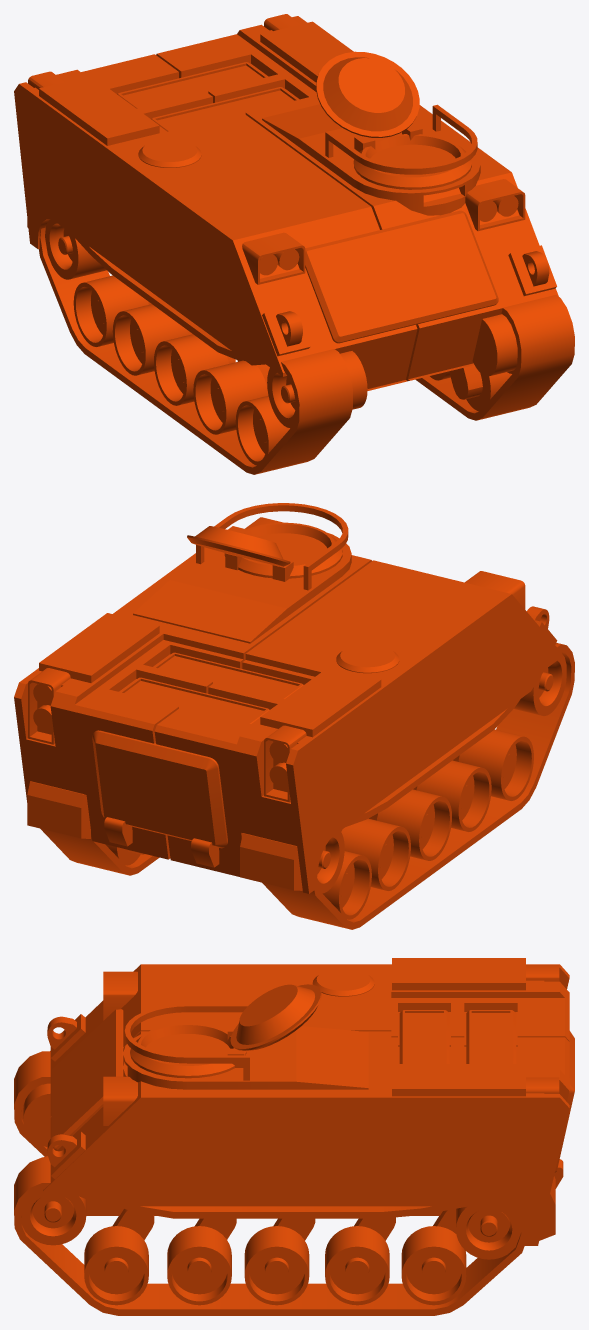
The model's file is wb-apc.fbx.
The picture shows the model from 3 angles, top to bottom: view 1: azimuth 30°, elevation 25°; view 2: azimuth 150°, elevation 25°; view 3: azimuth 270°, elevation 25°; orthographic projection. The views are drawn at different scales.
Parts seen in each view (by area): view 1: apc; view 2: apc; view 3: apc.
Boxes of the visible parts, x1,y1,x2,y2 form: apc: (14,14,574,474); apc: (14,503,574,929); apc: (14,958,574,1315).
Size of the model in its own units: 0.4581 by 0.4657 by 0.8144.
